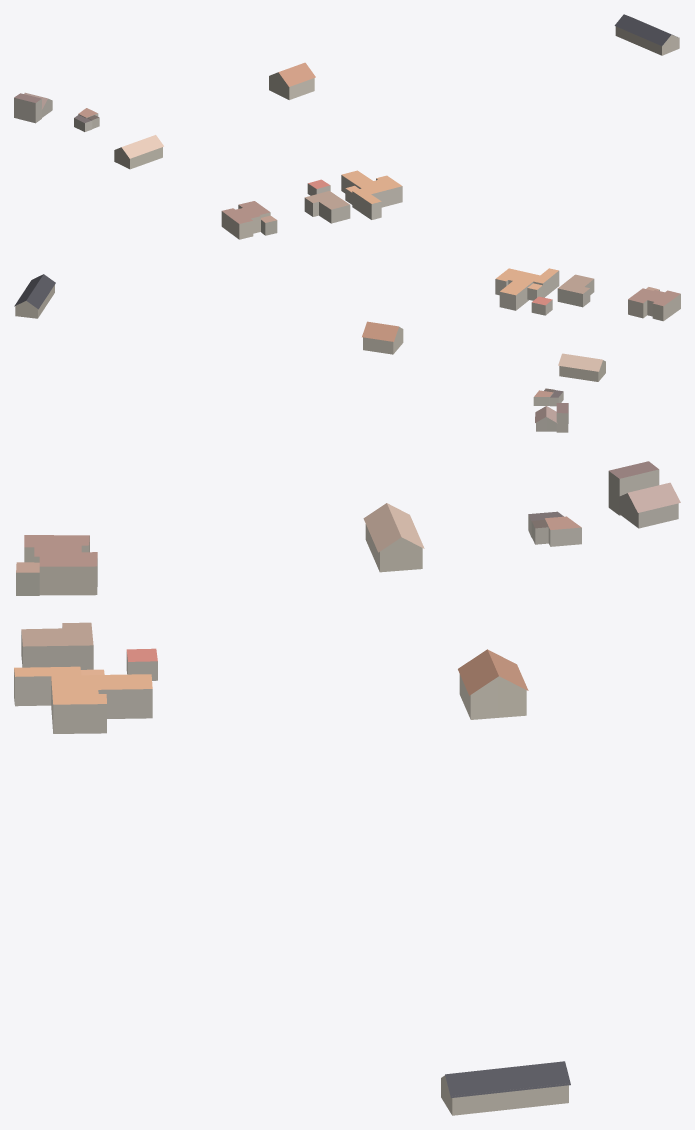
3 renders of one model, top to bottom at view 1: azimuth 30°, elevation 25°; view 2: azimuth 150°, elevation 25°; view 3: azimuth 270°, elevation 25°, orthographic. The views are drawn at different scales.
Visible parts, largest first — view 1: tuile; view 2: tuile; view 3: tuile.
Part boxes in pixels (left/top/right/bottom): tuile: left=14, top=14, right=679, bottom=239; tuile: left=14, top=268, right=680, bottom=432; tuile: left=14, top=461, right=680, bottom=1115.
Size of the model in its own units: 246 by 24.96 by 127.
